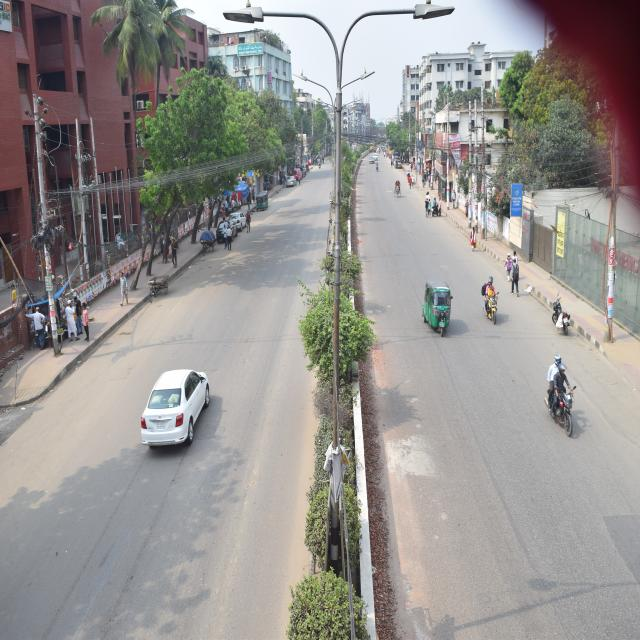car: (135, 349, 221, 462), (215, 217, 242, 250), (232, 205, 251, 232), (282, 171, 298, 187), (364, 153, 376, 162)
motorbike: (530, 370, 582, 434), (546, 279, 575, 342), (473, 283, 506, 333), (431, 202, 442, 218), (374, 160, 382, 173)
